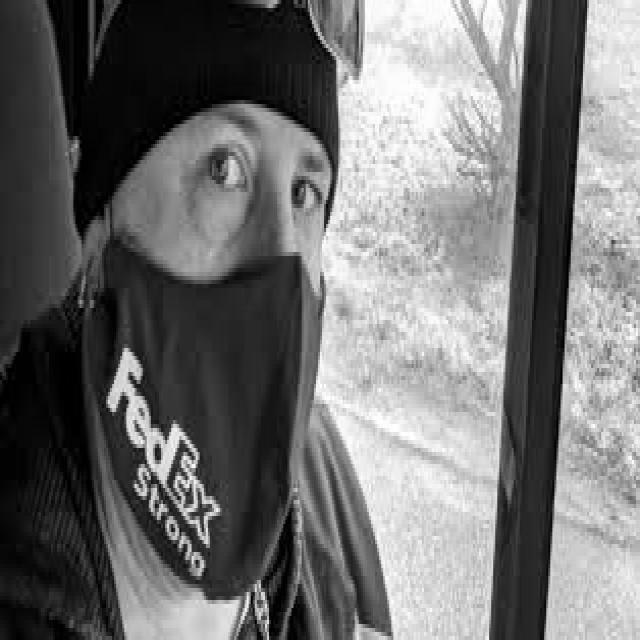fake: (85, 243, 336, 601)
real: (92, 114, 329, 595)
